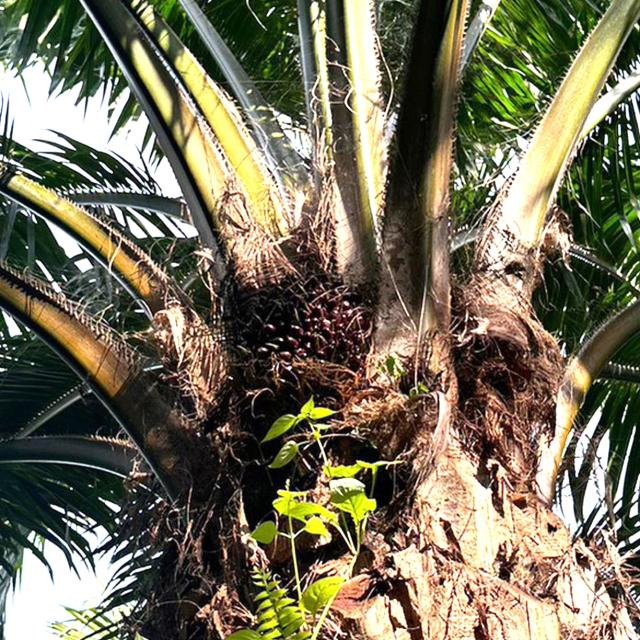unripe: (210, 254, 387, 462)
